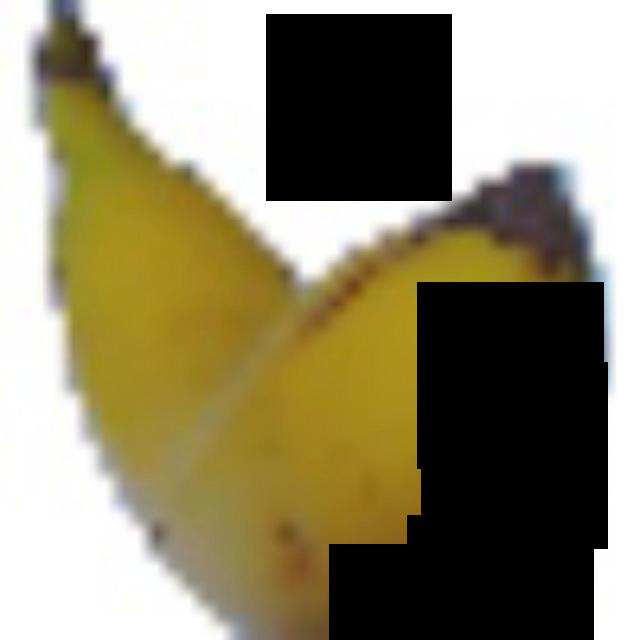banana: (25, 0, 595, 634)
